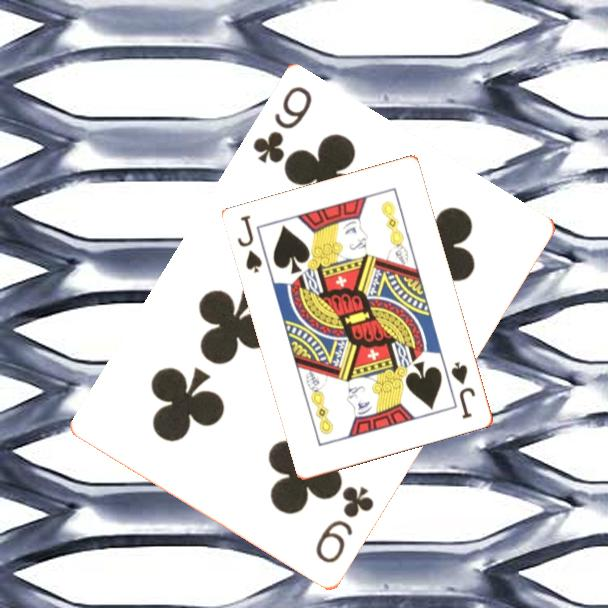c09: (249, 83, 316, 167), (311, 483, 377, 567)
s11: (234, 212, 266, 276), (448, 358, 479, 422)
